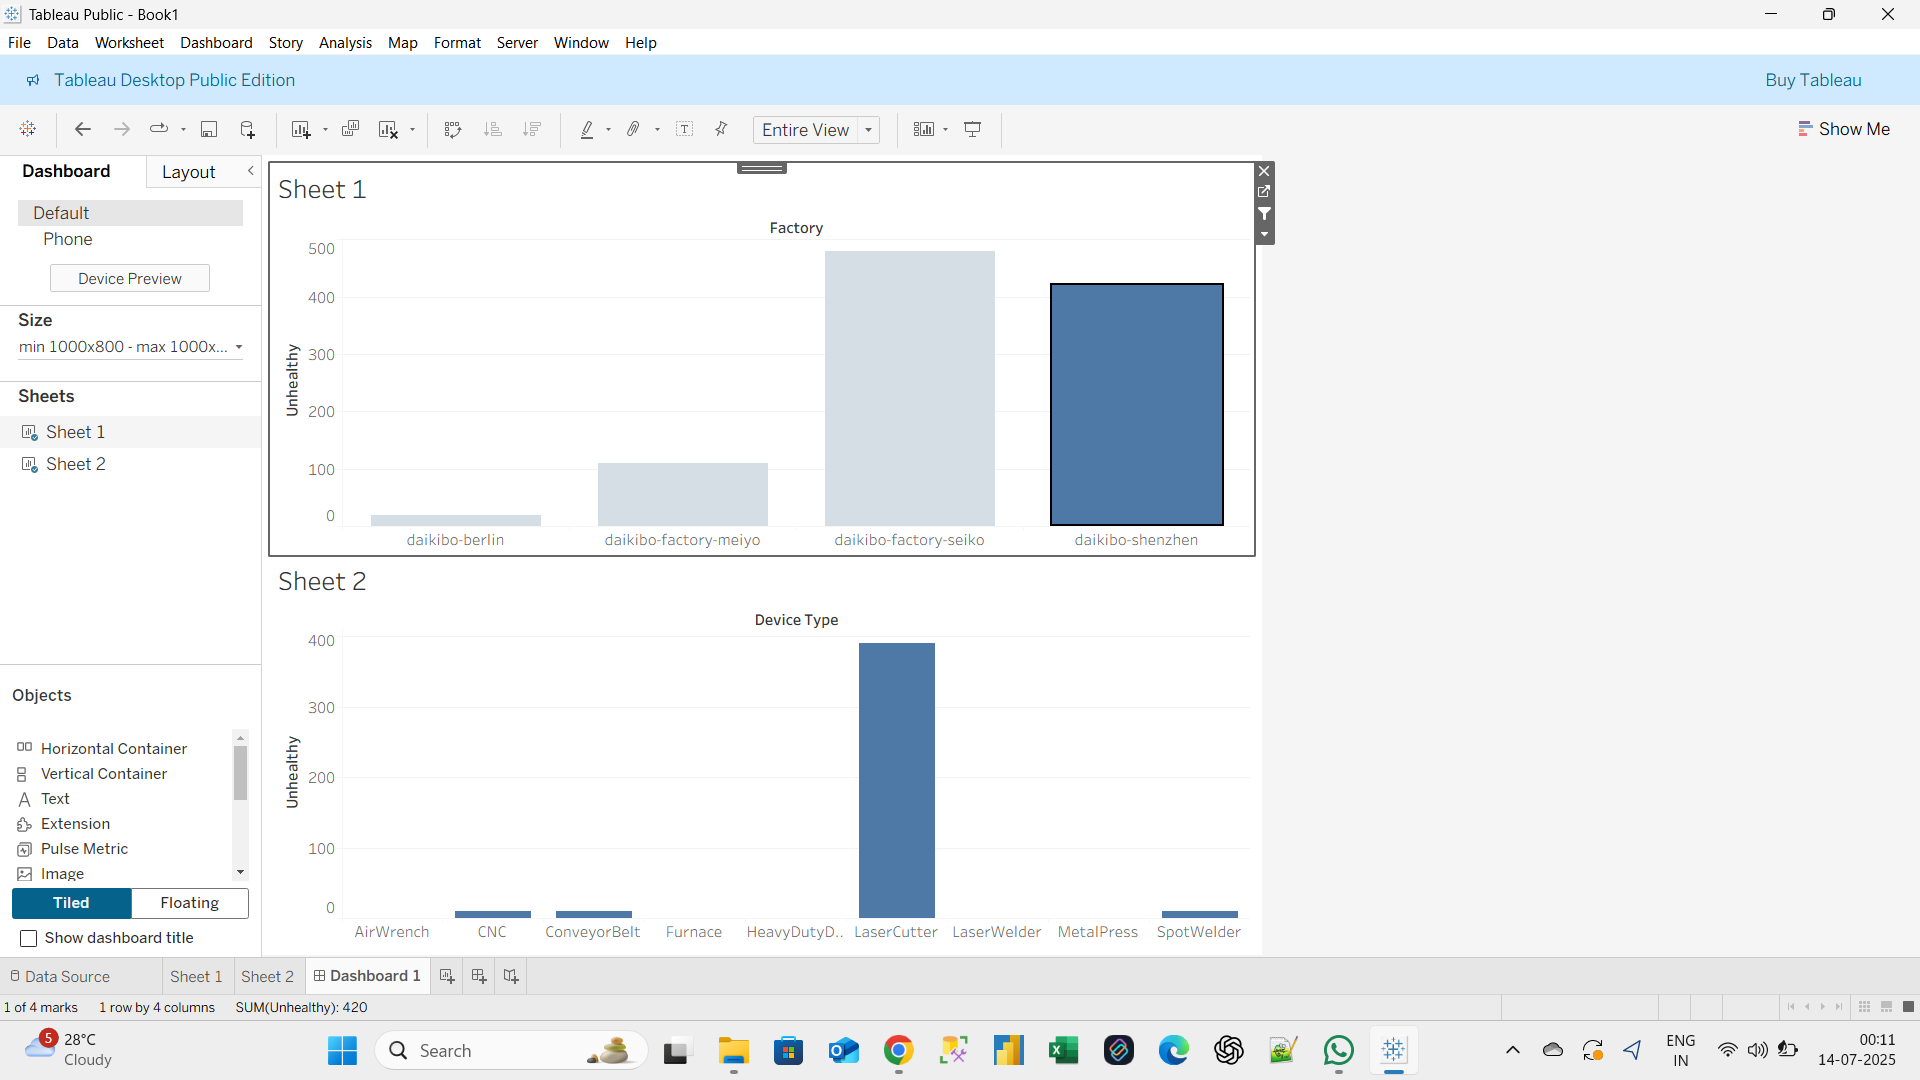

What the dashboard file says about the page in this screenshot:
{"tool":"tableau","page":{"name":"Dashboard 1","canvas":[1000,800],"ordinal":0},"visuals":[{"type":"worksheet","title":"Sheet 1","mark":"Automatic","rows":["Calculation_623467104547889152"],"cols":["factory"],"box":[8,8,984,392]},{"type":"worksheet","title":"Sheet 2","mark":"Automatic","rows":["Calculation_623467104547889152"],"cols":["deviceType"],"box":[8,400,984,392]}]}

Visuals, with their boxes on the page's 1000x800 design canvas (x1, y1, x2, y2). These are canvas units, not pixel positions in the 1920x1080 screenshot, which may show the page scaled, cropped or inside an application window:
"Sheet 1" worksheet: [8,8,992,400]
"Sheet 2" worksheet: [8,400,992,792]
